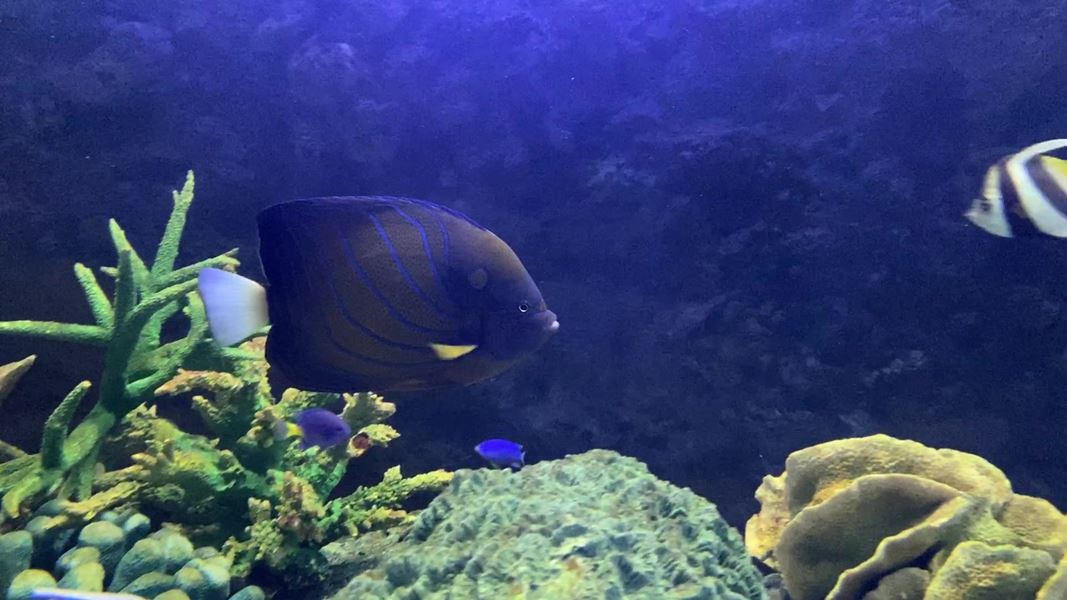Blue ring angelfish: (174, 179, 569, 416)
